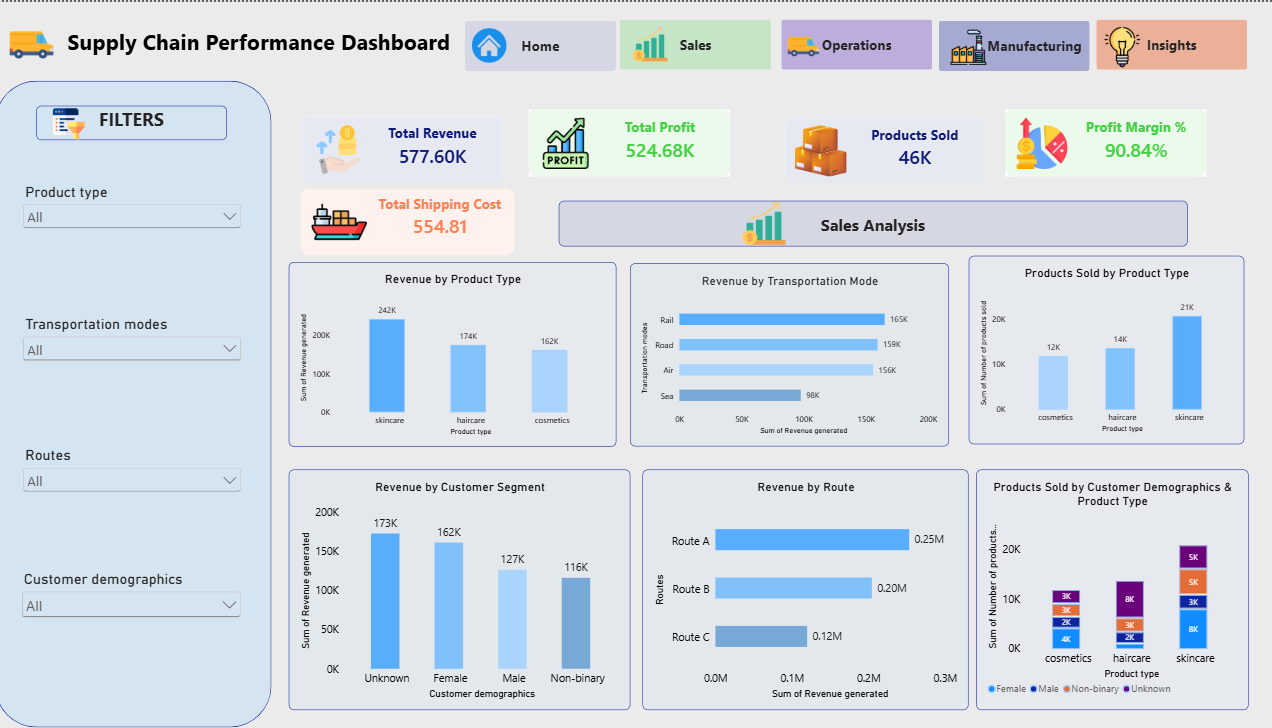

This screenshot's page, from the dashboard's own definition file:
{"tool":"powerbi","page":{"name":"Page 1","canvas":[1920,1080],"ordinal":0},"visuals":[{"type":"textbox","box":[449.4,883.2,1441.6,176.6],"z":0,"group":"g1"},{"type":"cardVisual","title":" Card","fields":{"Data":["supply_chain_cleaned.Total Revenue"]},"box":[470.1,168.8,300,100.9],"z":1000},{"type":"columnChart","title":"Revenue by Product Type","fields":{"Category":["supply_chain_cleaned.Product type"],"Y":["supply_chain_cleaned.Total Revenue"]},"box":[470.2,449.4,605.2,397.4],"z":1000,"group":"g1"},{"type":"columnChart","title":"Products Sold by Product Type","fields":{"Category":["supply_chain_cleaned.Product type"],"Y":["Sum(supply_chain_cleaned.Number of products sold)"]},"box":[1109.2,449.4,711.7,397.4],"z":2000,"group":"g1"},{"type":"cardVisual","title":"Card","fields":{"Data":["supply_chain_cleaned.Total Products Sold"]},"box":[1189.6,171.4,300,100],"z":3000},{"type":"textbox","box":[26.8,0,763.6,100.9],"z":7000},{"type":"shape","box":[14.4,117.3,411.7,963.3],"z":8000},{"type":"slicer","fields":{"Values":["supply_chain_cleaned.Product type"]},"box":[52.2,269.6,333.4,123.5],"z":9000},{"type":"slicer","fields":{"Values":["supply_chain_cleaned.Transportation modes"]},"box":[52.2,466.6,333.4,123.5],"z":10000},{"type":"slicer","fields":{"Values":["supply_chain_cleaned.Routes"]},"box":[52.2,663.5,333.4,111.1],"z":11000},{"type":"slicer","fields":{"Values":["supply_chain_cleaned.Customer demographics"]},"box":[51.2,848,335.5,105],"z":12000},{"type":"image","box":[14.4,28.8,109.1,72],"z":13000},{"type":"actionButton","box":[715.4,27.5,225,75],"z":14000},{"type":"actionButton","box":[946.5,25.7,225,75],"z":15000},{"type":"actionButton","box":[1186.8,25.7,225,75],"z":16000},{"type":"actionButton","box":[1654.5,25.7,225,75],"z":17000},{"type":"image","box":[715.4,38.5,72,51.5],"z":18000},{"type":"textbox","box":[76.2,154.4,284,51.5],"z":19000},{"type":"image","box":[92.6,158.5,63.8,47.3],"z":20000},{"type":"image","box":[959.3,36.7,63.8,51.5],"z":21000},{"type":"image","box":[1188.6,40.4,62.4,51.4],"z":22000},{"type":"image","box":[1654.6,36.4,77.9,59.7],"z":23000},{"type":"actionButton","box":[1421.5,27.5,225,75],"z":25000},{"type":"image","box":[1436.2,40.4,58.7,53.2],"z":26000},{"type":"cardVisual","fields":{"Data":["supply_chain_cleaned.Avg Manufacturing Lead Time"]},"box":[470.1,298.7,420.8,109.1],"z":27000},{"type":"cardVisual","fields":{"Data":["supply_chain_cleaned.Avg Defect Rate"]},"box":[914.3,298.7,420.8,109.1],"z":28000},{"type":"cardVisual","fields":{"Data":["Count(supply_chain_cleaned.SKU)"]},"box":[1535.1,171.4,311.7,96.1],"z":29000},{"type":"cardVisual","fields":{"Data":["supply_chain_cleaned.Avg Shipping Time"]},"box":[828.6,171.4,348.1,98.7],"z":31000},{"type":"group","id":"g1","title":"Home","box":[449.4,449.4,1441.6,610.4],"z":32000}]}

Visuals, with their boxes in screenshot pixels (x1, y1, x2, y2), scaled from the page's 1920x1080 canvas onto the 1272x728 screenshot:
textbox: box=[298, 595, 1253, 714]
" Card" cardVisual: box=[311, 114, 510, 182]
"Revenue by Product Type" columnChart: box=[312, 303, 712, 571]
"Products Sold by Product Type" columnChart: box=[735, 303, 1206, 571]
"Card" cardVisual: box=[788, 116, 987, 183]
textbox: box=[18, 0, 524, 68]
shape: box=[10, 79, 282, 727]
slicer - supply_chain_cleaned.Product type: box=[35, 182, 255, 265]
slicer - supply_chain_cleaned.Transportation modes: box=[35, 315, 255, 398]
slicer - supply_chain_cleaned.Routes: box=[35, 447, 255, 522]
slicer - supply_chain_cleaned.Customer demographics: box=[34, 572, 256, 642]
image: box=[10, 19, 82, 68]
actionButton: box=[474, 19, 623, 69]
actionButton: box=[627, 17, 776, 68]
actionButton: box=[786, 17, 935, 68]
actionButton: box=[1096, 17, 1245, 68]
image: box=[474, 26, 522, 61]
textbox: box=[50, 104, 239, 139]
image: box=[61, 107, 104, 139]
image: box=[636, 25, 678, 59]
image: box=[787, 27, 829, 62]
image: box=[1096, 25, 1148, 65]
actionButton: box=[942, 19, 1091, 69]
image: box=[951, 27, 990, 63]
cardVisual - supply_chain_cleaned.Avg Manufacturing Lead Time: box=[311, 201, 590, 275]
cardVisual - supply_chain_cleaned.Avg Defect Rate: box=[606, 201, 885, 275]
cardVisual - Count(supply_chain_cleaned.SKU): box=[1017, 116, 1224, 180]
cardVisual - supply_chain_cleaned.Avg Shipping Time: box=[549, 116, 780, 182]
"Home" group: box=[298, 303, 1253, 714]
